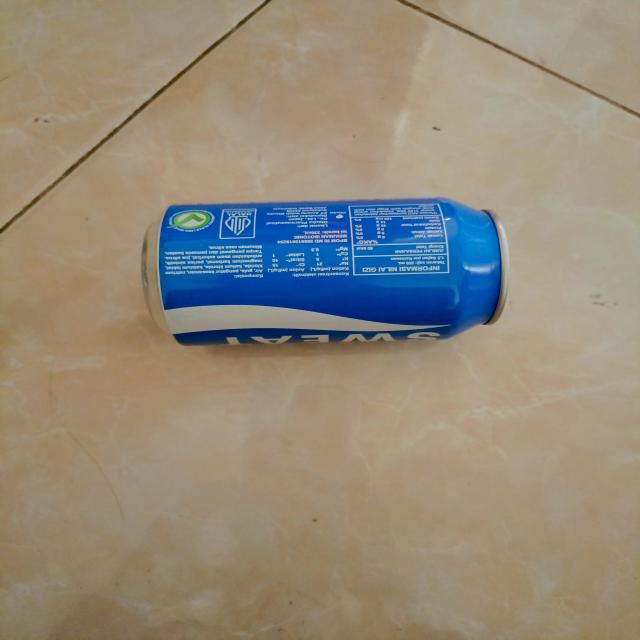pocari-sweat: (141, 196, 515, 346)
